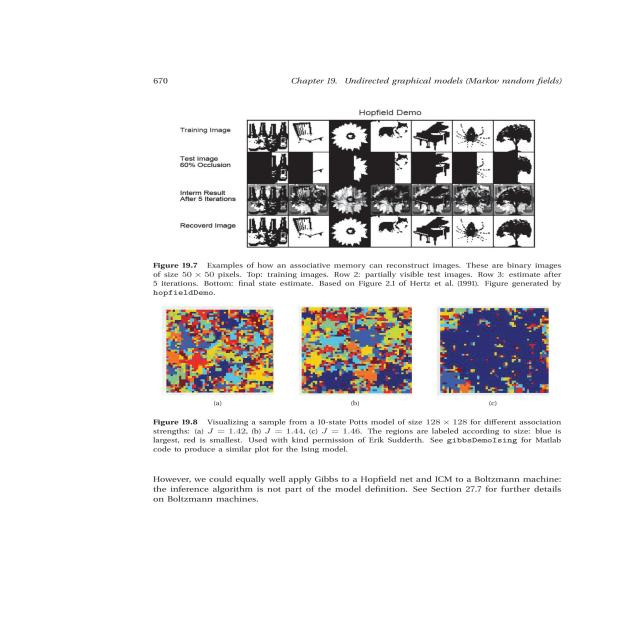diagram: (153, 98, 574, 304), (134, 302, 589, 463)
